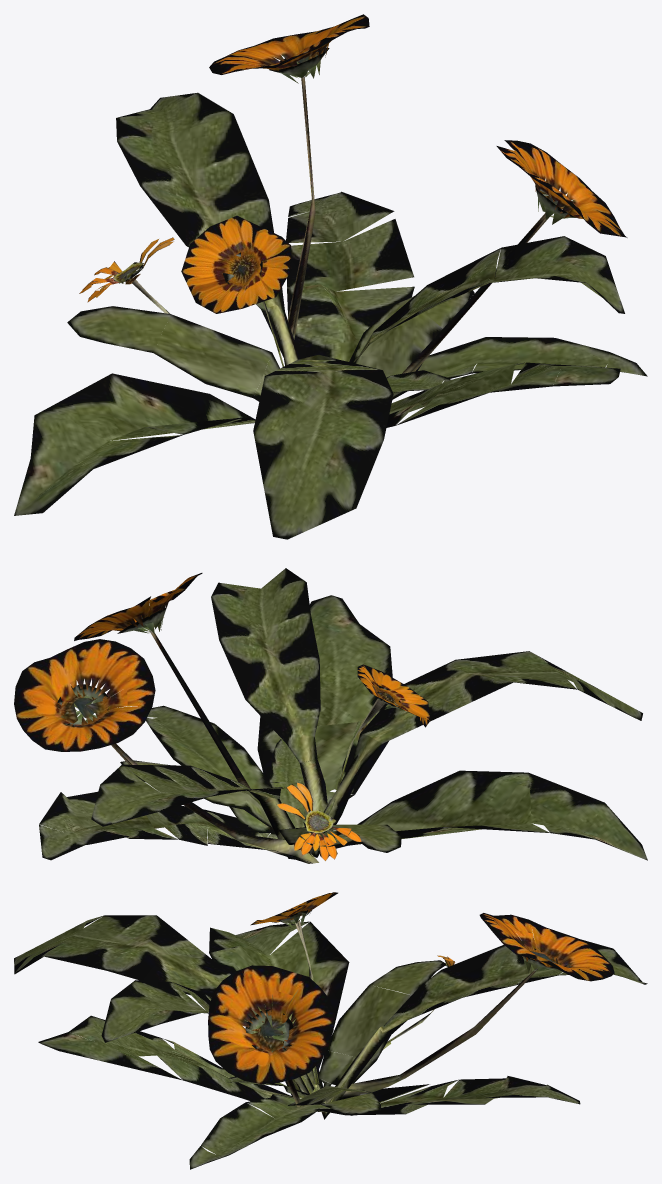
The model's file is ph-blume-gazania-g.glb.
The picture shows the model from 3 angles, top to bottom: view 1: azimuth 30°, elevation 25°; view 2: azimuth 150°, elevation 25°; view 3: azimuth 270°, elevation 25°; orthographic projection. The views are drawn at different scales.
Visible parts, largest first — view 1: flower_gazania_g_LOD0; view 2: flower_gazania_g_LOD0; view 3: flower_gazania_g_LOD0.
Boxes of the visible parts, <box> form: flower_gazania_g_LOD0: <box>14,14,647,539</box>; flower_gazania_g_LOD0: <box>14,568,647,863</box>; flower_gazania_g_LOD0: <box>14,892,647,1169</box>.
Bounding box in the file's own units: 0.271 × 0.1243 × 0.2884.
Materials: 1 (1 with a texture image).
